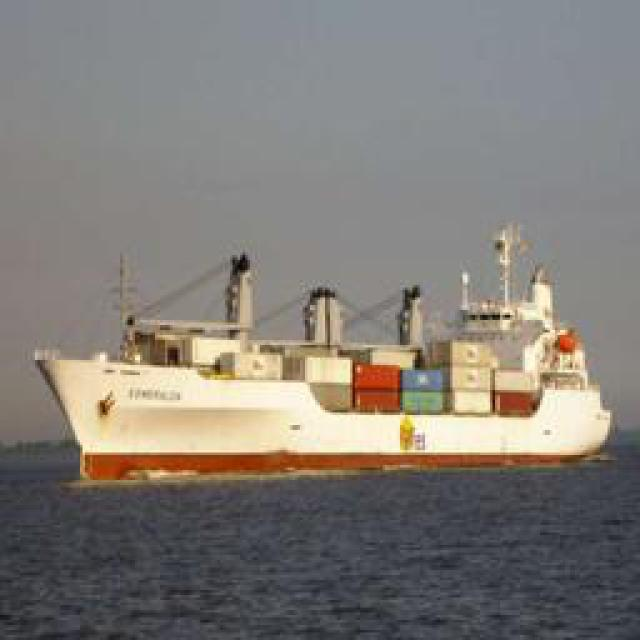Ship: (37, 248, 627, 473)
